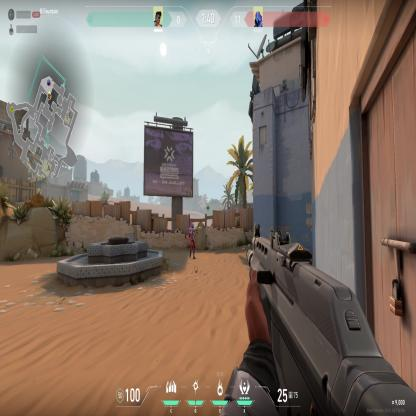enemy: (187, 220, 199, 261)
